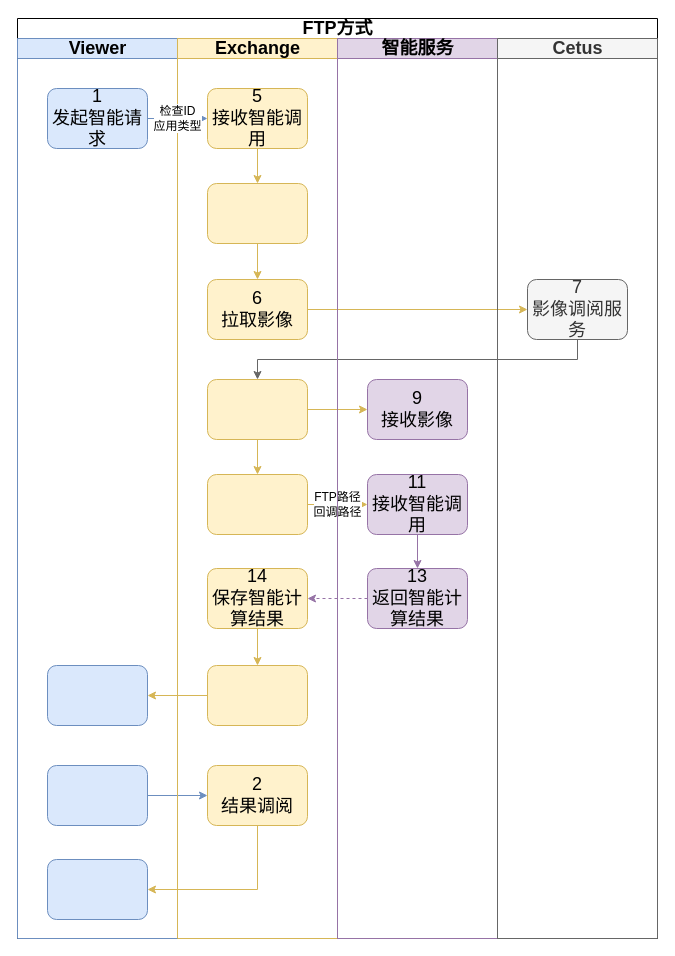
Image size: 675x956. Some labels were removed from this diagram. Each missing label, with the centre of its shape:
1 请求结果查看: point (97, 795)
10 发送智能调用: point (257, 504)
15 查找并通知调用方: point (257, 695)
16 通知结果完成: point (97, 695)
3 返回结果查看: point (97, 889)
6 记录调用方 生成异步请求: point (257, 213)
8 影像推送 FTP: point (257, 409)
